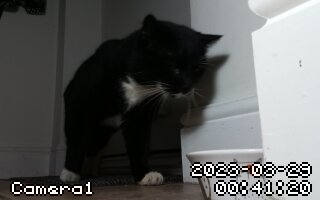bad: (51, 13, 219, 188)
